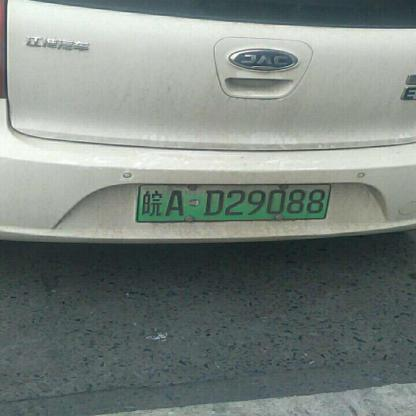lp: (137, 184, 329, 221)
